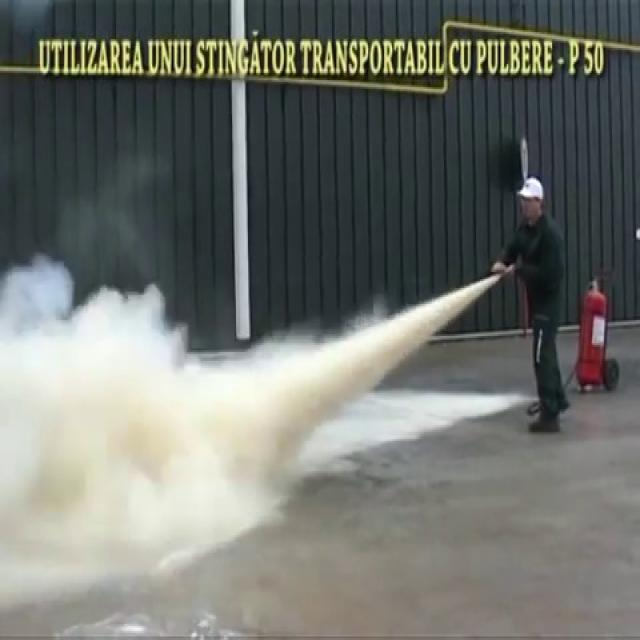Smoke: (0, 212, 328, 620)
